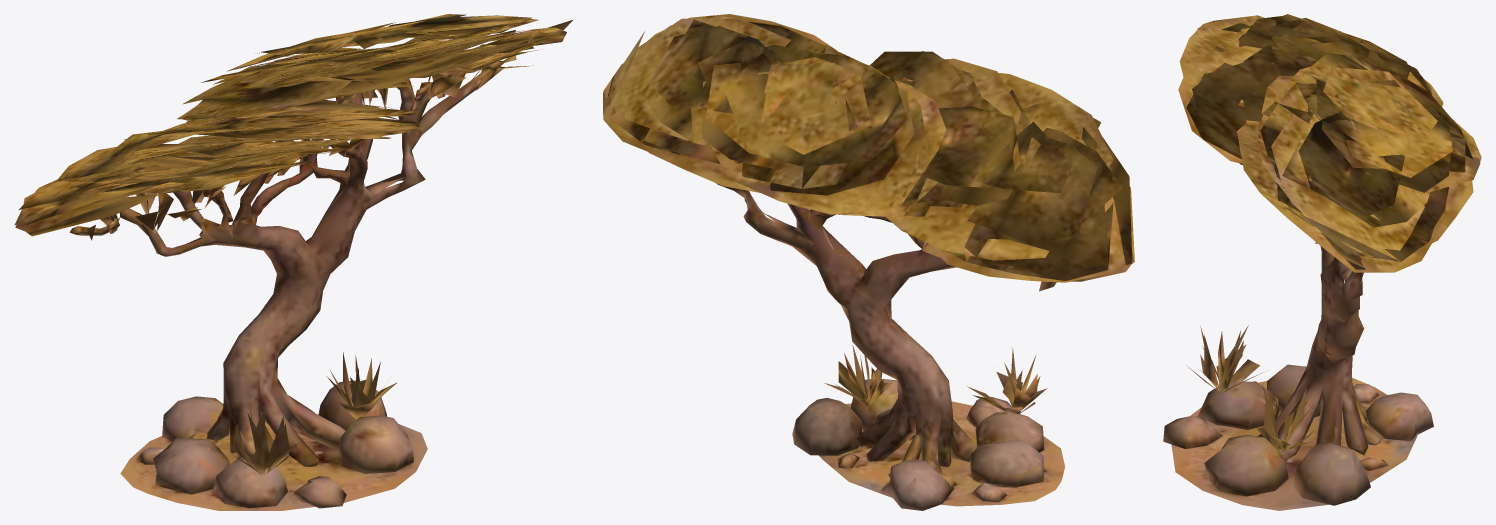
Rendered from tree_01.glb.
3 renders of one model, left to right at view 1: azimuth 30°, elevation 25°; view 2: azimuth 150°, elevation 25°; view 3: azimuth 270°, elevation 25°, orthographic. The views are drawn at different scales.
Visible parts, largest first — view 1: tree_01; view 2: tree_01; view 3: tree_01.
Boxes of the visible parts, x1=… form: tree_01: x1=14, y1=14, x2=573, y2=510; tree_01: x1=603, y1=14, x2=1134, y2=510; tree_01: x1=1163, y1=14, x2=1481, y2=510.
Bounding box in the file's own units: 8.31 × 5.8 × 4.06.
1 material, 1 textured.
